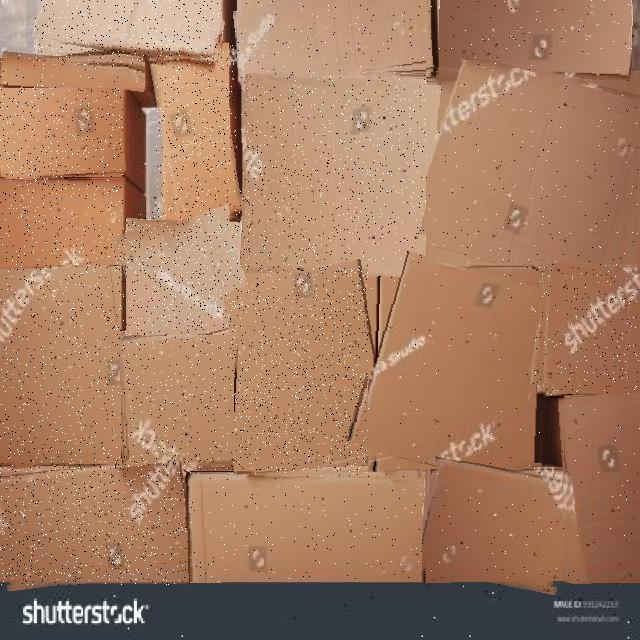BoxFace: (426, 60, 640, 279), (240, 75, 442, 276), (368, 263, 552, 479), (234, 268, 391, 480), (186, 472, 428, 582), (0, 265, 127, 466), (0, 459, 190, 585), (422, 463, 573, 589), (120, 212, 251, 346), (235, 0, 432, 86), (121, 335, 241, 471), (439, 0, 632, 78), (561, 394, 640, 583), (155, 42, 236, 220), (535, 261, 640, 396), (34, 0, 223, 66), (0, 85, 123, 180), (0, 177, 123, 268), (0, 54, 145, 88)
